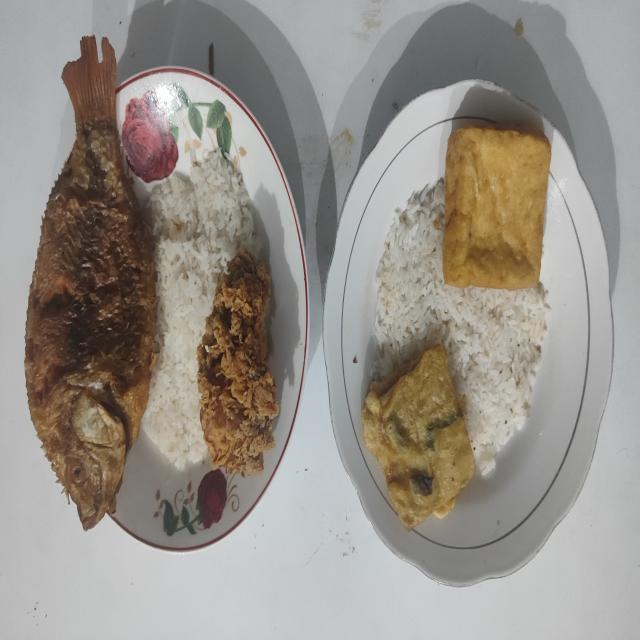ikan_mujair: (24, 36, 158, 530)
nasi_putih: (370, 178, 550, 474), (142, 152, 261, 469)
tahu_goreng: (442, 128, 550, 290)
